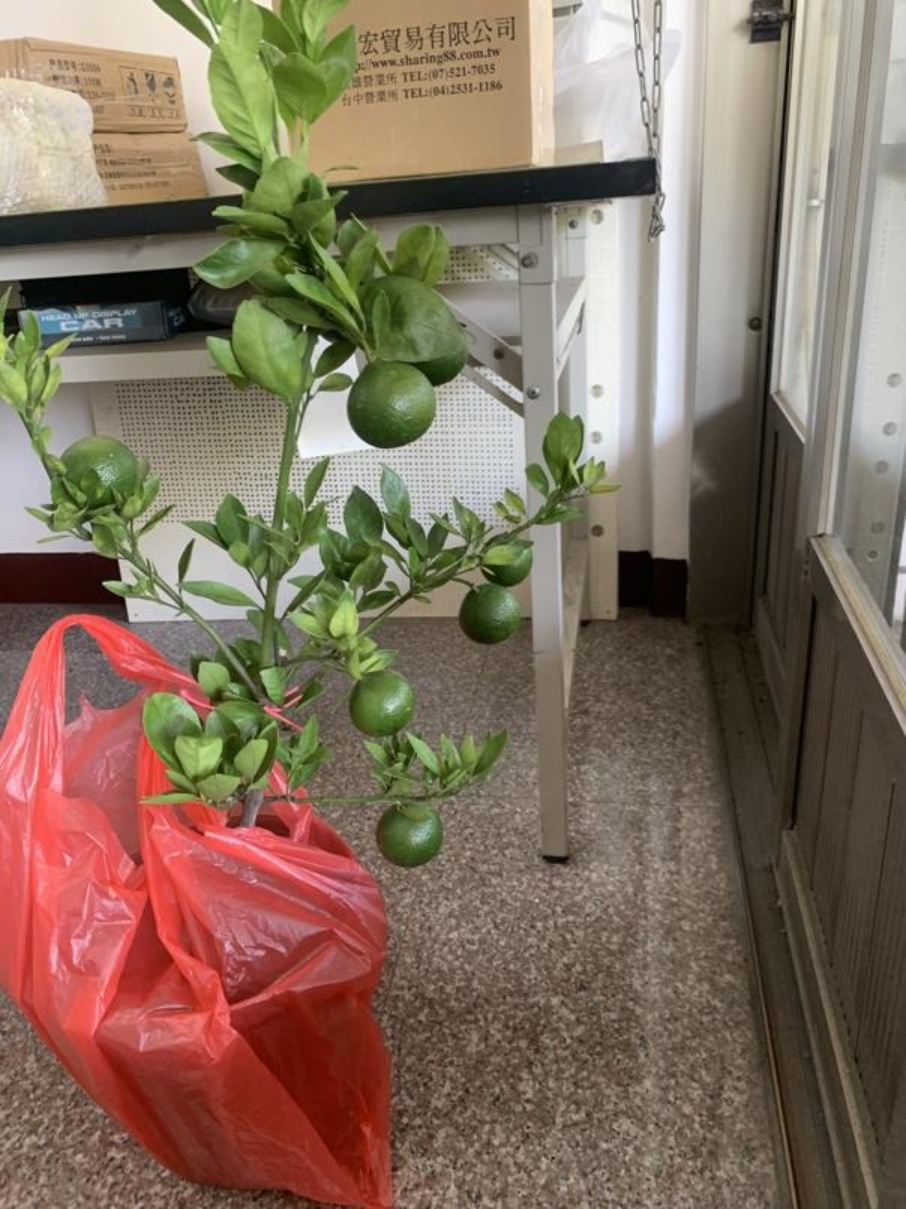Tangerine: (347, 355, 442, 452), (59, 430, 139, 506), (342, 662, 416, 733), (372, 799, 446, 869), (459, 577, 526, 645)
